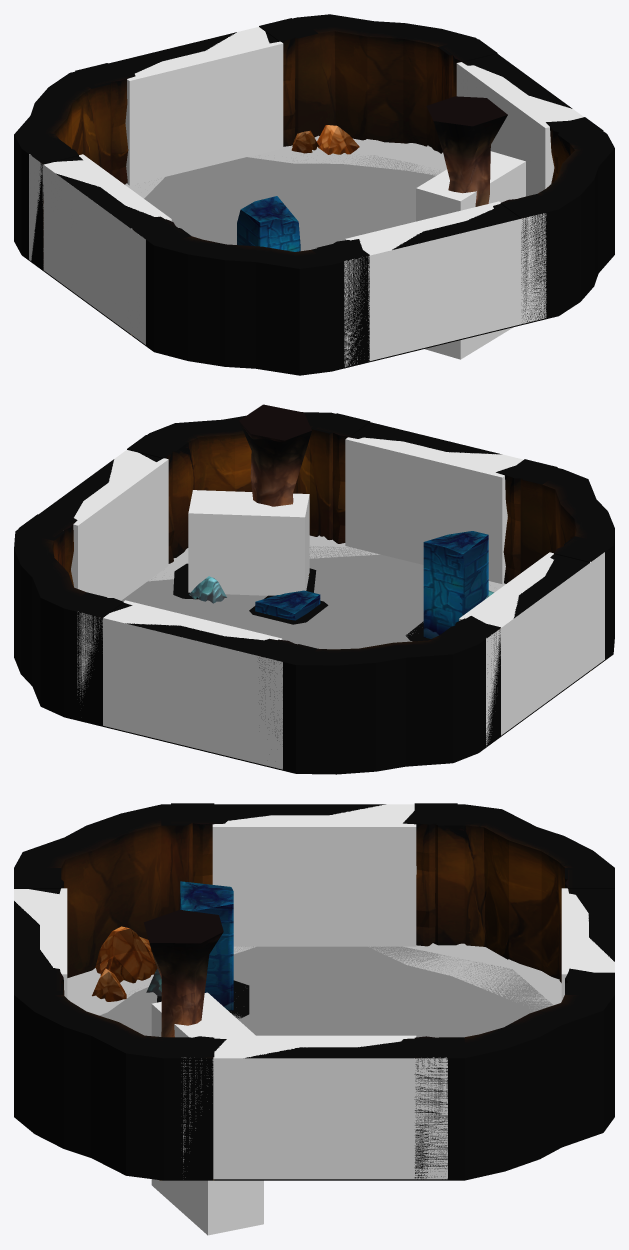
The model's file is Dungeon_062_StartRoom_001_008.fbx.
The picture shows the model from 3 angles, top to bottom: view 1: azimuth 30°, elevation 25°; view 2: azimuth 150°, elevation 25°; view 3: azimuth 270°, elevation 25°; orthographic projection. The views are drawn at different scales.
Visible parts, largest first — view 1: Dun_062_StartRoom_001_wall, DoorWay_NavMask (1) (×4), DoorWay_NavMask (3) (×4), Dun_062_StartRoom_002_Nav, Dun_062_Door_002 (×4), Dungeon_011_Object_010, Cube, Dun_062_StartRoom_001_shadow, Dun_051_Obj01_Pillar, DoorWay_NavMask (2) (×4), Dun_062_Object_100; view 2: Dun_062_StartRoom_001_wall, DoorWay_NavMask (1) (×4), DoorWay_NavMask (3) (×4), Dun_062_Door_002 (×4), Dun_062_StartRoom_002_Nav, Cube, Dun_051_Obj01_Pillar, Dungeon_011_Object_010, DoorWay_NavMask (2) (×3), Dun_062_StartRoom_001_shadow, Dun_051_Obj02_Pillar, Dun_051_Obj02_Pillar_Shadow (+1 smaller); view 3: Dun_062_StartRoom_001_wall, DoorWay_NavMask (1) (×4), DoorWay_NavMask (3) (×2), Dun_062_StartRoom_002_Nav, Dun_062_Door_002 (×4), Dun_062_StartRoom_001_shadow, Cube, Dungeon_011_Object_010, Dun_051_Obj01_Pillar, Dun_062_Object_100, DoorWay_NavMask (2) (×3), Dun_051_Obj01_Pillar_Shadow.
Boxes of the visible parts, x1,y1,x2,y2 form: Dun_062_StartRoom_001_wall: [14, 14, 614, 375]; DoorWay_NavMask (1) (×4): [42, 27, 553, 360]; DoorWay_NavMask (3) (×4): [29, 27, 583, 367]; Dun_062_StartRoom_002_Nav: [144, 155, 439, 250]; Dun_062_Door_002 (×4): [25, 18, 603, 361]; Dungeon_011_Object_010: [426, 96, 507, 206]; Cube: [416, 151, 525, 359]; Dun_062_StartRoom_001_shadow: [125, 135, 446, 198]; Dun_051_Obj01_Pillar: [237, 196, 300, 251]; DoorWay_NavMask (2) (×4): [57, 32, 570, 249]; Dun_062_Object_100: [291, 125, 359, 154]; Dun_062_StartRoom_001_wall: [14, 412, 614, 774]; DoorWay_NavMask (1) (×4): [71, 437, 590, 762]; DoorWay_NavMask (3) (×4): [77, 439, 604, 769]; Dun_062_Door_002 (×4): [18, 413, 608, 764]; Dun_062_StartRoom_002_Nav: [121, 546, 490, 649]; Cube: [188, 490, 309, 595]; Dun_051_Obj01_Pillar: [423, 531, 488, 638]; Dungeon_011_Object_010: [239, 404, 311, 576]; DoorWay_NavMask (2) (×3): [112, 453, 515, 624]; Dun_062_StartRoom_001_shadow: [148, 535, 505, 592]; Dun_051_Obj02_Pillar: [255, 590, 320, 620]; Dun_051_Obj02_Pillar_Shadow: [173, 563, 328, 624]; Dun_062_StartRoom_001_wall: [14, 804, 614, 1180]; DoorWay_NavMask (1) (×4): [14, 804, 614, 1179]; DoorWay_NavMask (3) (×2): [181, 804, 447, 1179]; Dun_062_StartRoom_002_Nav: [99, 946, 552, 1037]; Dun_062_Door_002 (×4): [14, 803, 614, 1180]; Dun_062_StartRoom_001_shadow: [67, 943, 561, 1015]; Cube: [151, 992, 263, 1235]; Dungeon_011_Object_010: [144, 910, 223, 1037]; Dun_051_Obj01_Pillar: [180, 881, 233, 1010]; Dun_062_Object_100: [92, 926, 157, 1001]; DoorWay_NavMask (2) (×3): [20, 807, 608, 973]; Dun_051_Obj01_Pillar_Shadow: [157, 980, 249, 1018].
Size of the model in its own units: 9.04 by 4.44 by 9.
